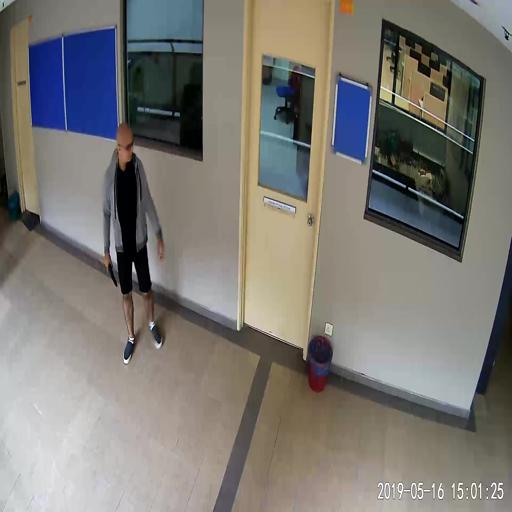pistol: (105, 259, 116, 286)
